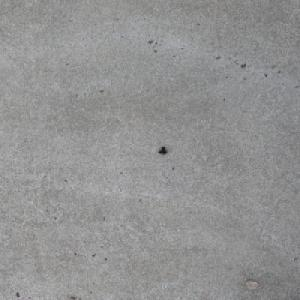BoltWasher: (157, 146, 167, 155)
